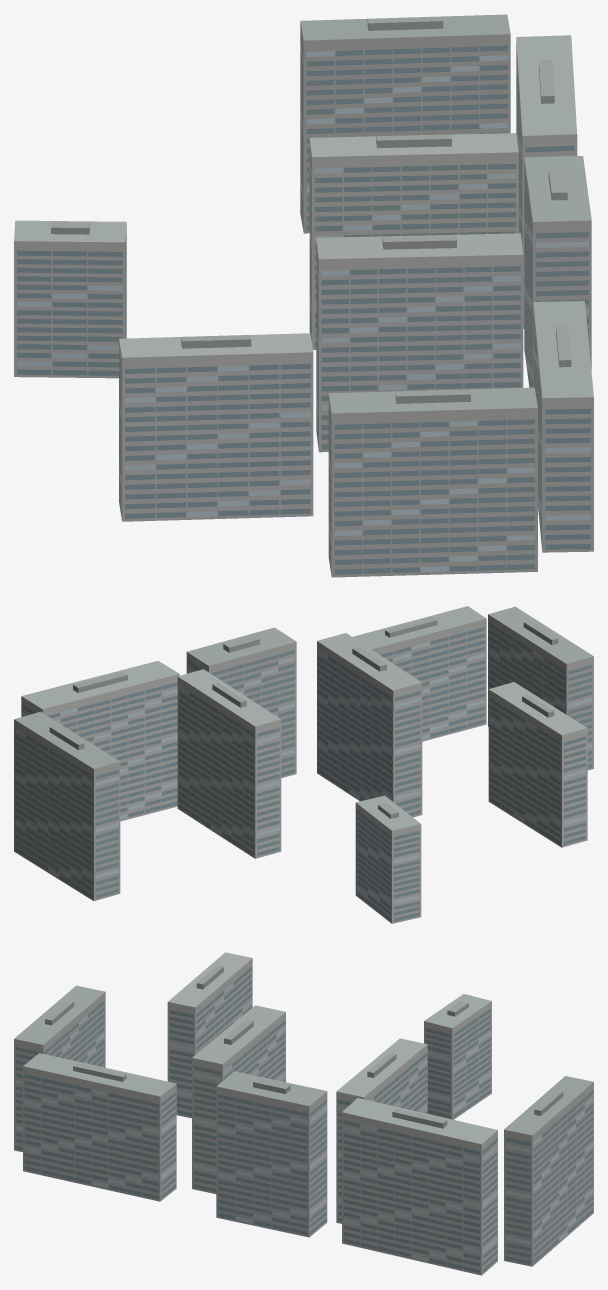
Rendered from apt-a15703307.glb.
3 views of the same model, one above another, from view 1: azimuth 30°, elevation 25°; view 2: azimuth 150°, elevation 25°; view 3: azimuth 270°, elevation 25° (orthographic). The views are drawn at different scales.
Parts seen in each view (by area): view 1: apt-a15703307; view 2: apt-a15703307; view 3: apt-a15703307.
Boxes of the visible parts, x1,y1,x2,y2 form: apt-a15703307: [14, 14, 593, 577]; apt-a15703307: [14, 606, 593, 923]; apt-a15703307: [14, 952, 593, 1275].
Size of the model in its own units: 211 by 63.4 by 244.
